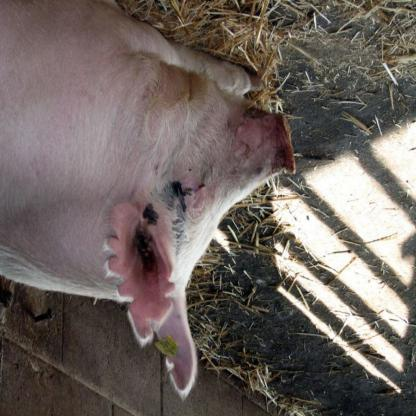boar: (0, 1, 296, 400)
